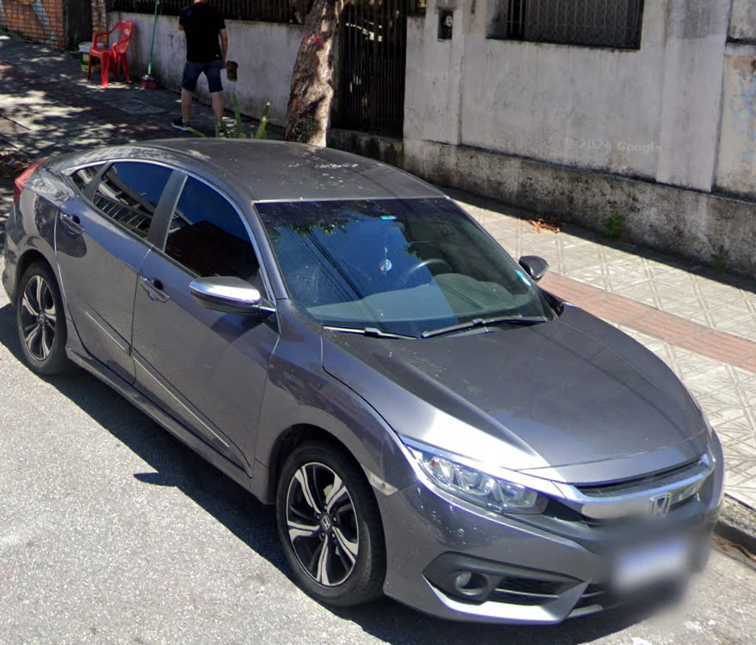car: (3, 139, 725, 624)
